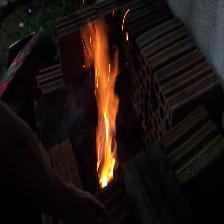fire: (72, 18, 141, 194)
